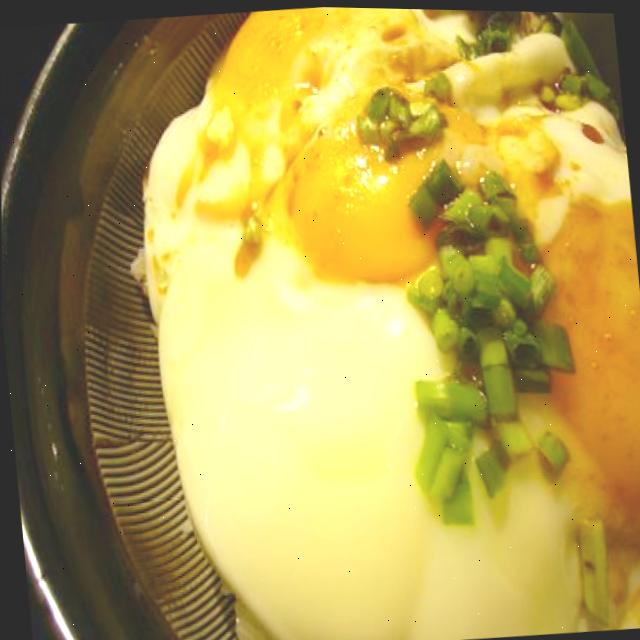鸡蛋料理: (135, 2, 620, 595)
